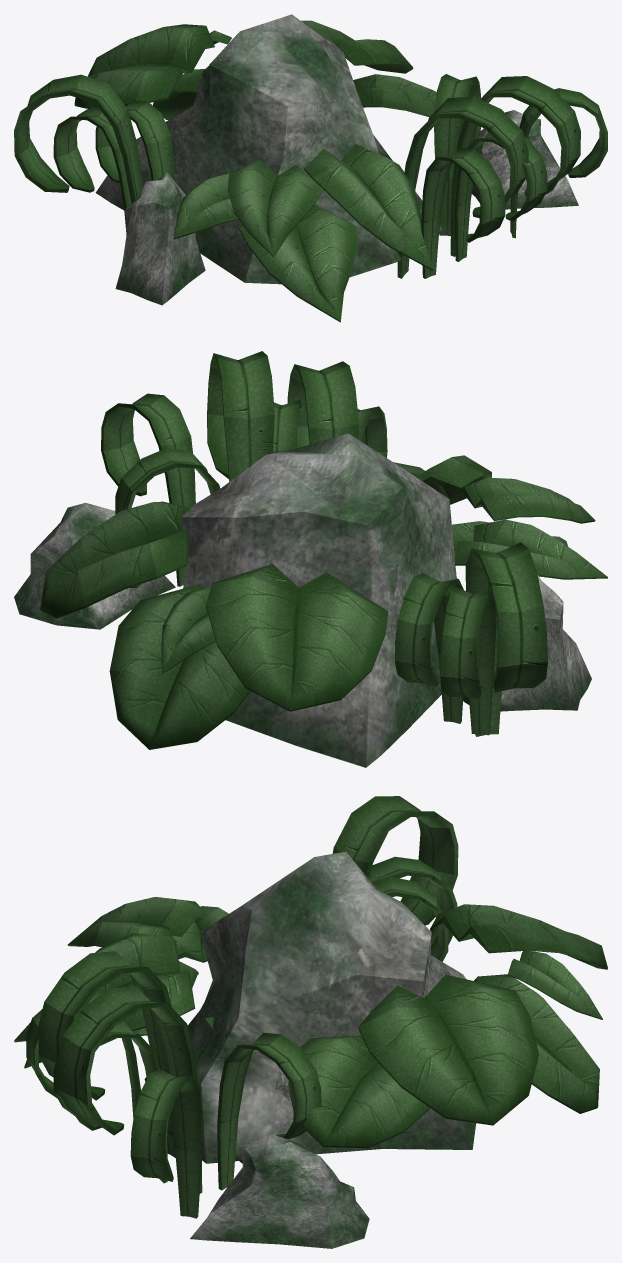
Rendered from Plants03.fbx.
The picture shows the model from 3 angles, top to bottom: view 1: azimuth 30°, elevation 25°; view 2: azimuth 150°, elevation 25°; view 3: azimuth 270°, elevation 25°; orthographic projection. The views are drawn at different scales.
Visible parts, largest first — view 1: Stone_geo2, Leaf_geo5, Stone_geo3, Leaf_geo4, LeafRound_geo4, Leaf_Tongue_geo4, Leaf_geo7, Leaf_Tongue_geo5, Leaf_Tongue_geo8, Leaf_Tongue_geo2, Leaf_Tongue_geo7, Leaf_Tongue_geo3 (+8 smaller); view 2: Stone_geo2, LeafRound_geo4, LeafRound_geo7, LeafRound_geo6, Leaf_Tongue_geo4, Leaf_Tongue_geo2, Leaf_Tongue_geo7, Stone_geo, Leaf_Tongue_geo, Leaf_Tongue_geo3, Stone_geo3, Leaf_Tongue_geo8 (+8 smaller); view 3: Stone_geo2, LeafRound_geo6, Stone_geo, LeafRound_geo5, Leaf_Tongue_geo2, Leaf_Tongue_geo, Leaf_Tongue_geo8, Leaf_Tongue_geo4, Leaf_Tongue_geo6, LeafRound_geo7, LeafRound_geo4, Leaf_geo5 (+7 smaller).
Boxes of the visible parts, x1=… form: Stone_geo2: x1=95, y1=14, x2=444, y2=284; Leaf_geo5: x1=303, y1=144, x2=433, y2=270; Stone_geo3: x1=115, y1=172, x2=205, y2=305; Leaf_geo4: x1=239, y1=204, x2=358, y2=322; LeafRound_geo4: x1=74, y1=24, x2=214, y2=108; Leaf_Tongue_geo4: x1=14, y1=74, x2=143, y2=203; Leaf_geo7: x1=227, y1=159, x2=323, y2=257; Leaf_Tongue_geo5: x1=421, y1=147, x2=505, y2=278; Leaf_Tongue_geo8: x1=397, y1=96, x2=528, y2=278; Leaf_Tongue_geo2: x1=450, y1=76, x2=580, y2=256; Leaf_Tongue_geo7: x1=53, y1=106, x2=131, y2=231; Leaf_Tongue_geo3: x1=95, y1=100, x2=174, y2=182; Stone_geo2: x1=181, y1=433, x2=457, y2=767; LeafRound_geo4: x1=205, y1=564, x2=388, y2=711; LeafRound_geo7: x1=109, y1=584, x2=250, y2=749; LeafRound_geo6: x1=40, y1=501, x2=189, y2=618; Leaf_Tongue_geo4: x1=465, y1=542, x2=547, y2=736; Leaf_Tongue_geo2: x1=207, y1=351, x2=274, y2=481; Leaf_Tongue_geo7: x1=440, y1=587, x2=496, y2=735; Stone_geo: x1=14, y1=503, x2=175, y2=629; Leaf_Tongue_geo: x1=101, y1=393, x2=195, y2=586; Leaf_Tongue_geo3: x1=394, y1=573, x2=463, y2=723; Stone_geo3: x1=463, y1=575, x2=591, y2=711; Leaf_Tongue_geo8: x1=287, y1=361, x2=359, y2=448; Stone_geo2: x1=144, y1=851, x2=476, y2=1163; LeafRound_geo6: x1=358, y1=974, x2=538, y2=1125; Stone_geo: x1=190, y1=1133, x2=369, y2=1248; LeafRound_geo5: x1=288, y1=1036, x2=429, y2=1148; Leaf_Tongue_geo2: x1=56, y1=986, x2=202, y2=1193; Leaf_Tongue_geo: x1=130, y1=1069, x2=202, y2=1218; Leaf_Tongue_geo8: x1=38, y1=951, x2=175, y2=1157; Leaf_Tongue_geo4: x1=332, y1=796, x2=458, y2=925; Leaf_Tongue_geo6: x1=217, y1=1032, x2=321, y2=1190; LeafRound_geo7: x1=474, y1=974, x2=599, y2=1113; LeafRound_geo4: x1=430, y1=904, x2=607, y2=969; Leaf_geo5: x1=24, y1=933, x2=195, y2=1068.
Size of the model in its own units: 15.66 by 6.69 by 14.03.
